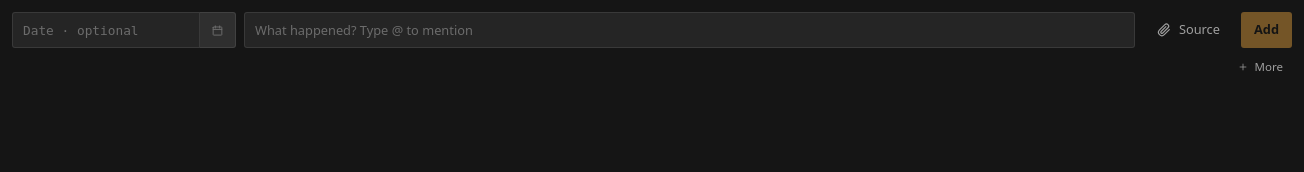
what the line asks for › needs one thing to say, and says so on the button
Expected: the button "Add" is disabled, [1241, 12, 1292, 48]
Type "Explosions heard" into the dropdown named "What happened".
click(689, 30); type("Explosions heard")  # box [244, 12, 1135, 48]
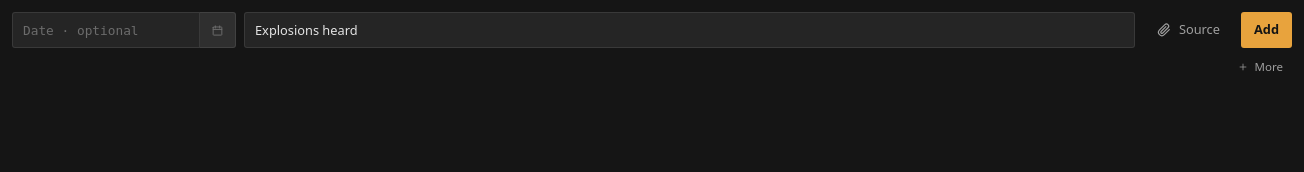
Result: the button "Add" is enabled at [1241, 12, 1292, 48]
